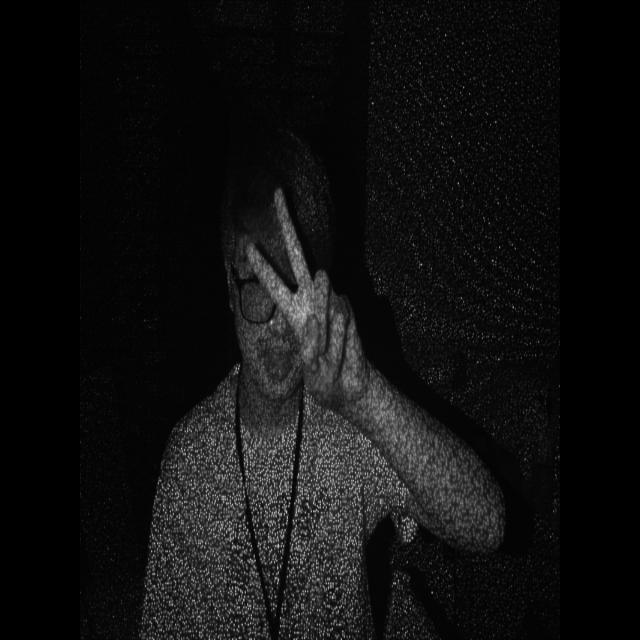V: (235, 169, 371, 414)
